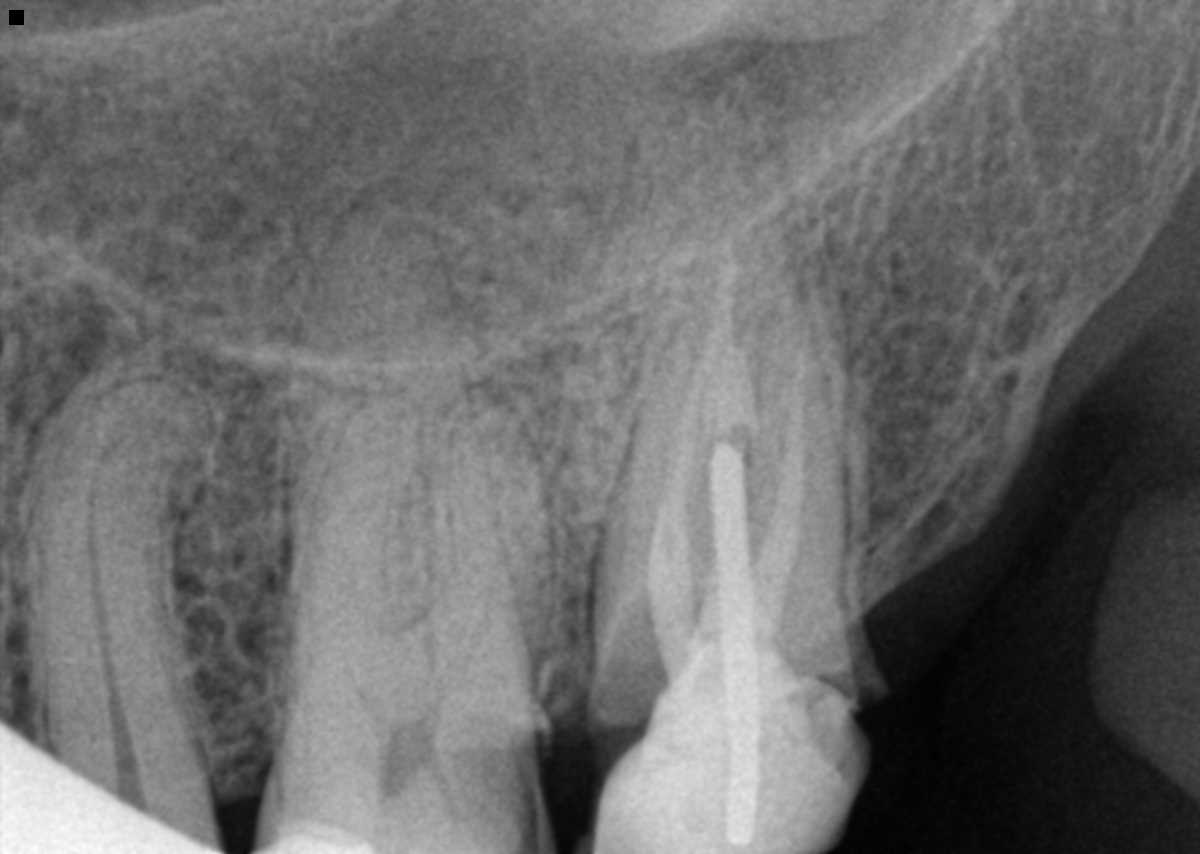Distal Canal: (440, 565, 495, 702)
Distal Root: (413, 379, 553, 697), (742, 308, 846, 614)
Main Canal: (85, 430, 155, 810)
Main Root: (27, 375, 215, 813)
Mesial Root: (272, 395, 425, 703), (594, 318, 731, 631)
Palatal Root: (281, 179, 513, 713), (591, 213, 844, 657)
Root Canal Filling: (653, 332, 728, 675), (748, 341, 803, 636)
decay: (592, 594, 669, 777)
